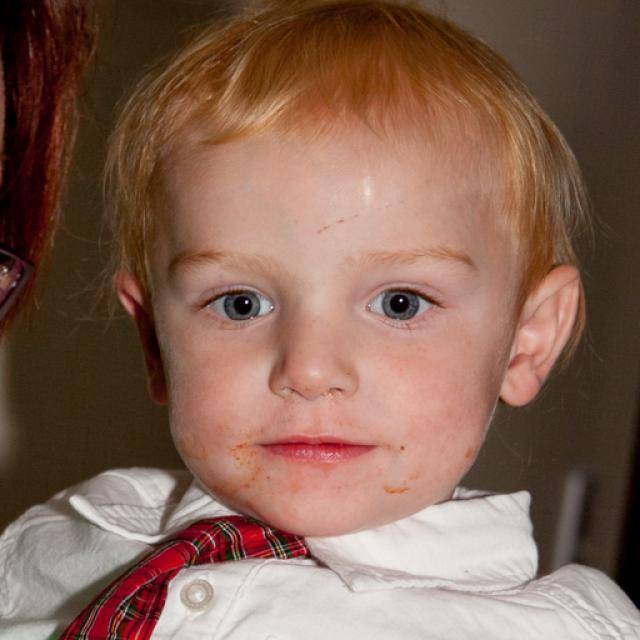0_rostro_limpio: (117, 0, 581, 534)
